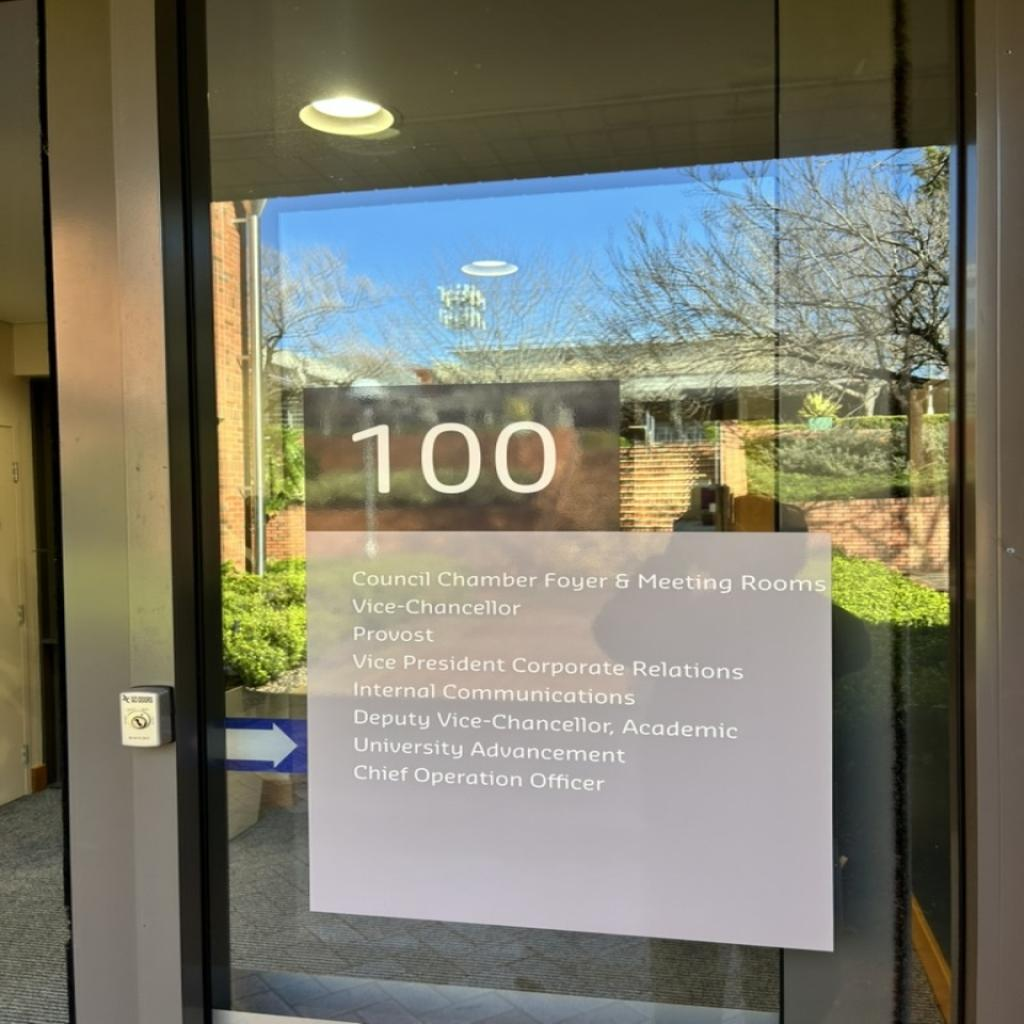BuildingCodes: (347, 417, 563, 497)
